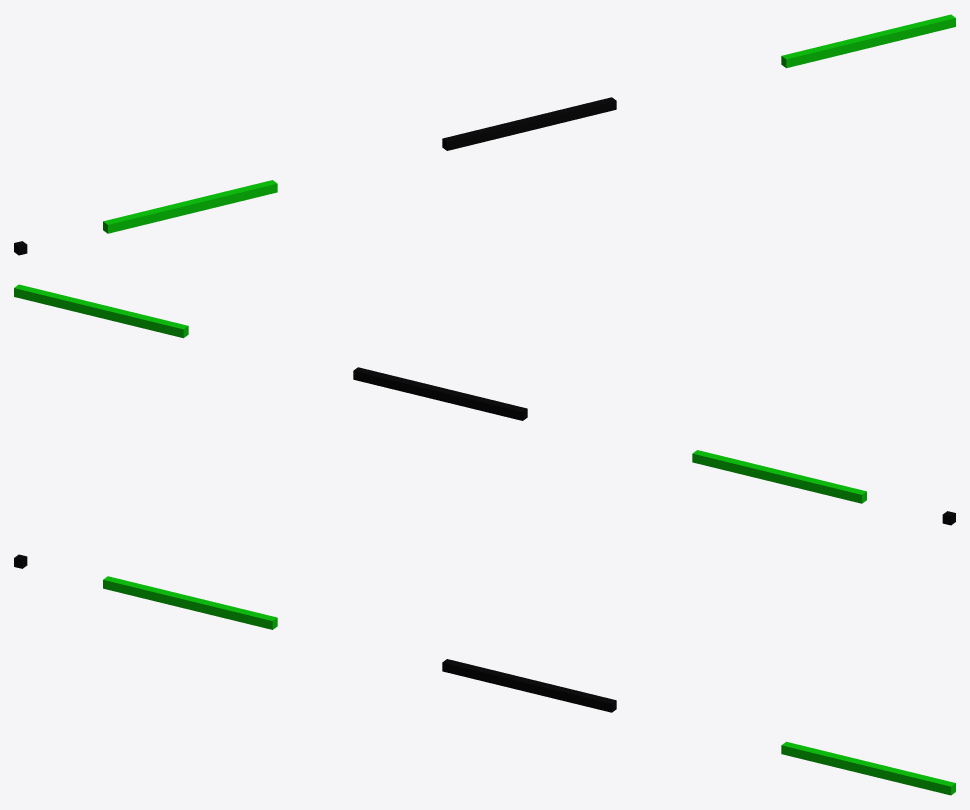
Rendered from model_simple.dae.
The picture shows the model from 3 angles, top to bottom: view 1: azimuth 30°, elevation 25°; view 2: azimuth 150°, elevation 25°; view 3: azimuth 330°, elevation 25°; orthographic projection.
Parts seen in each view (by area): view 1: link1, link3, link2; view 2: link1, link3, link2; view 3: link1, link3, link2.
Boxes of the visible parts, <box> form: link1: <box>103,180,277,233</box>; link3: <box>781,14,955,68</box>; link2: <box>442,97,616,150</box>; link1: <box>692,450,866,503</box>; link3: <box>14,284,188,338</box>; link2: <box>353,367,527,420</box>; link1: <box>103,576,277,629</box>; link3: <box>781,741,955,795</box>; link2: <box>442,659,616,712</box>.
Bounding box in the file's own units: 2.76 × 0.025 × 0.025.
